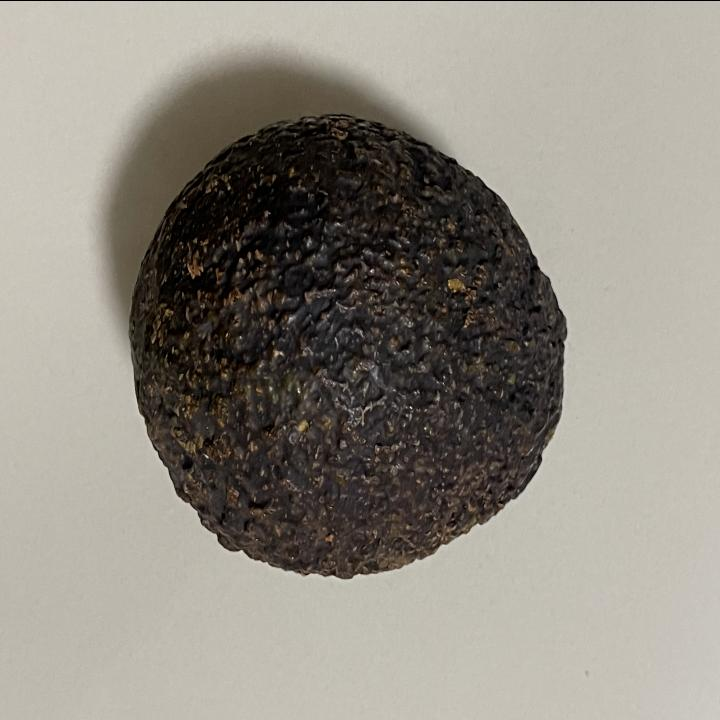Level2: (123, 103, 573, 586)
